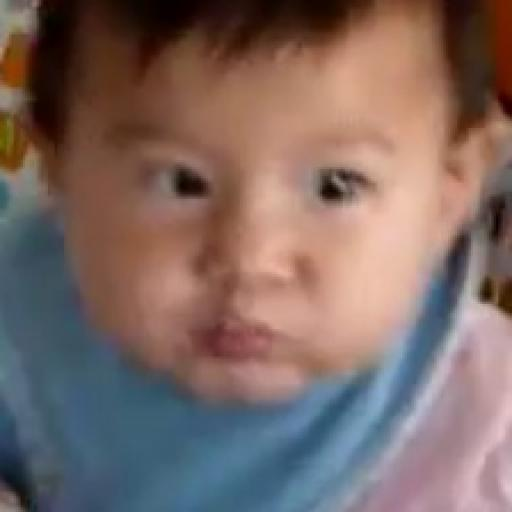Autism: (22, 3, 486, 437)
